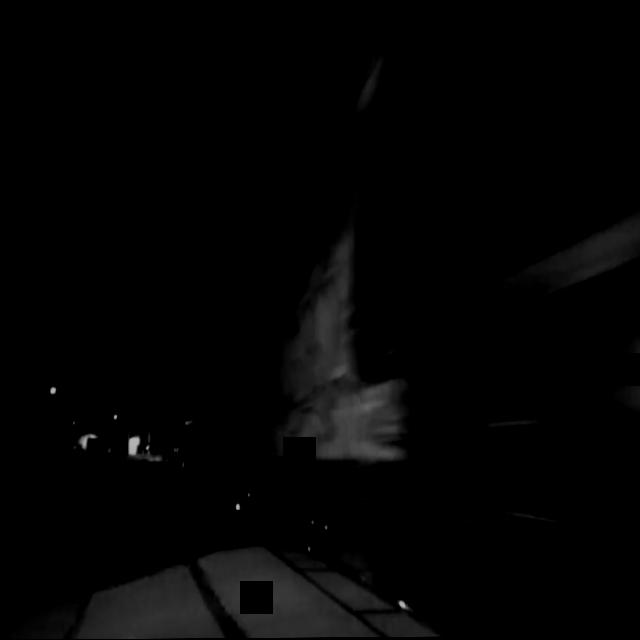hopper: (184, 0, 448, 639)
